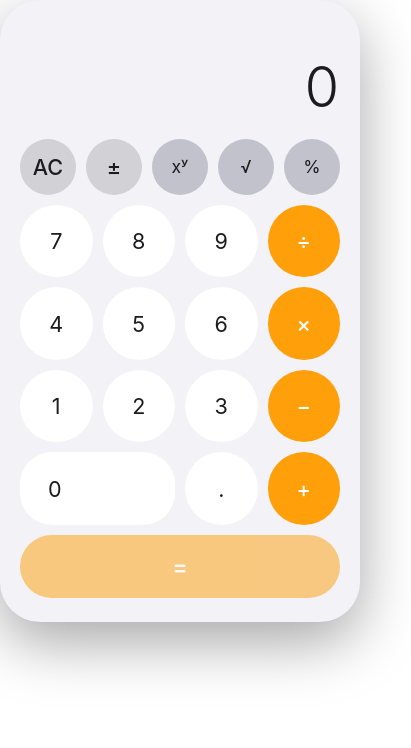
Test case: Calculator › renders a generic message for a non-API, non-network failure
Click the button "4".
click(56, 324)  # box [20,287,92,360]
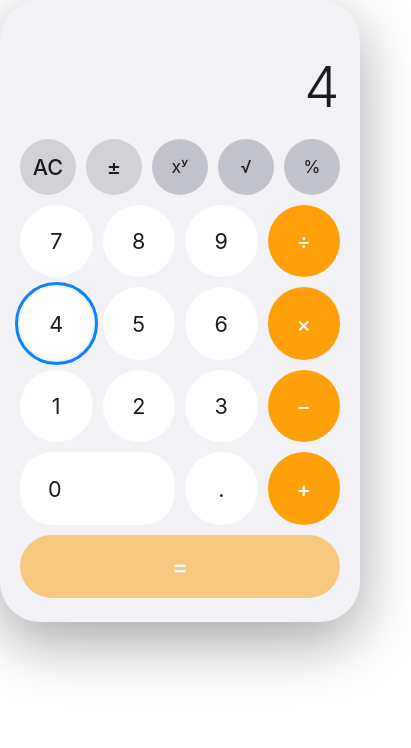
Click the button "+".
click(304, 489)  # box [268,452,340,525]
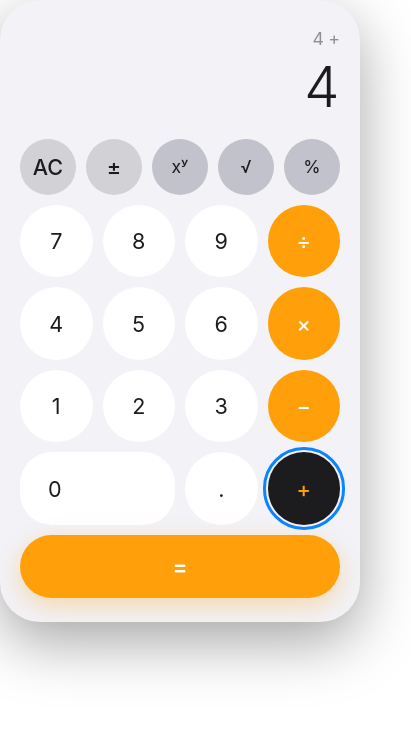
Click the button "5".
click(139, 324)  # box [102,287,175,360]
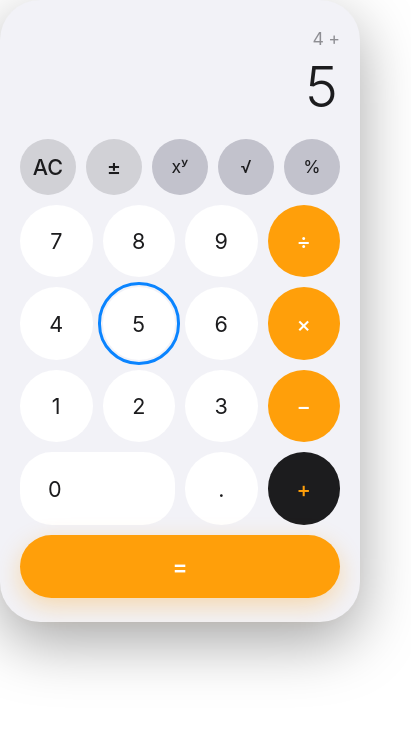
Click the button "=".
click(180, 566)  # box [20,535,340,598]
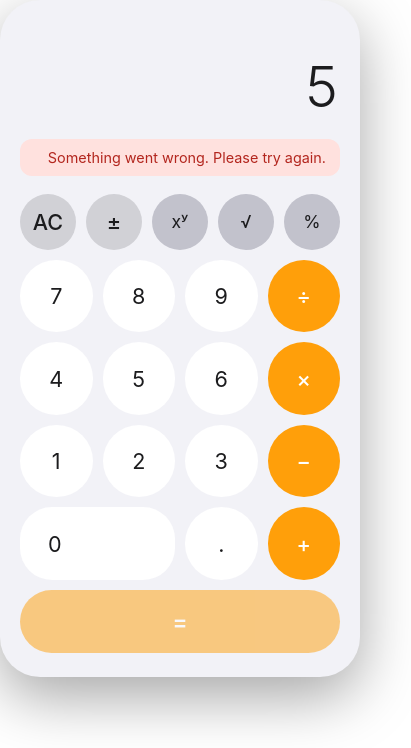
Now the message shows "Something went wrong", box [48,149,326,166]
